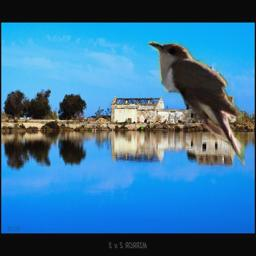Cuckoo: (148, 40, 245, 170)
